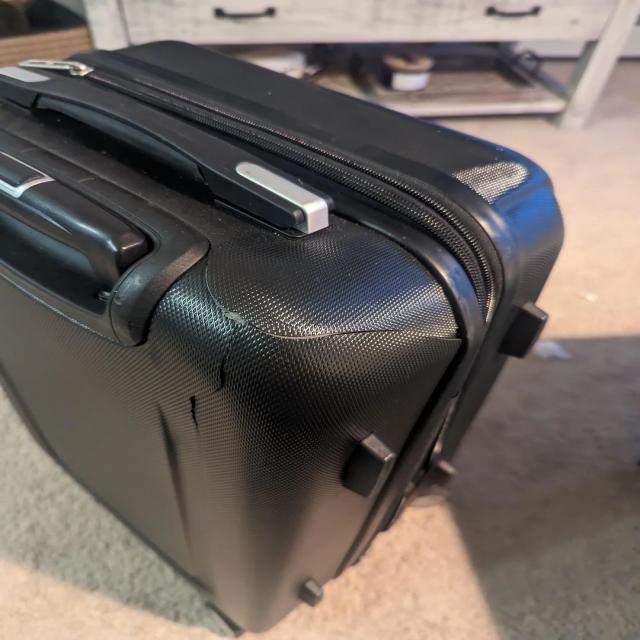Damage-bag: (189, 259, 256, 429), (253, 327, 461, 342)
